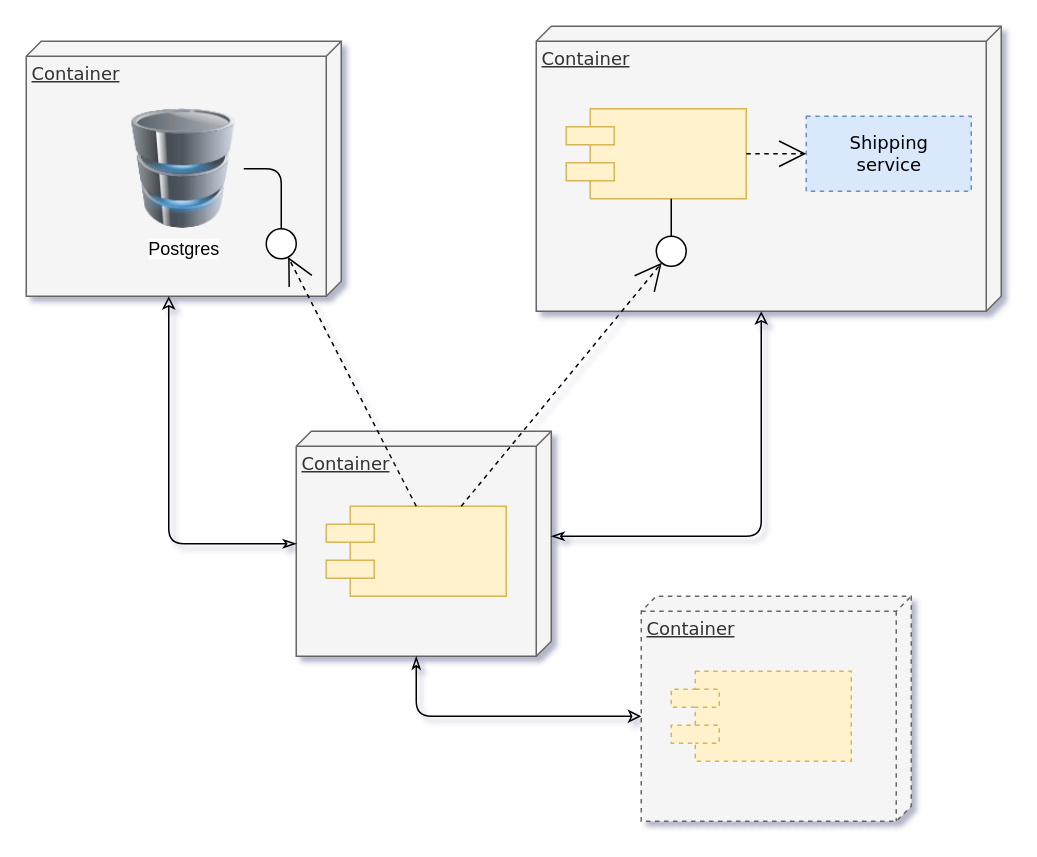
This 1037x857 diagram has some shape labels left out. The box of each missing label's shape, as (x1, y1, x2, y2) in pixels:
Book-Print Service: (325, 505, 506, 596)
Payment Service: (670, 670, 851, 761)
Printing Service: (565, 107, 746, 199)
